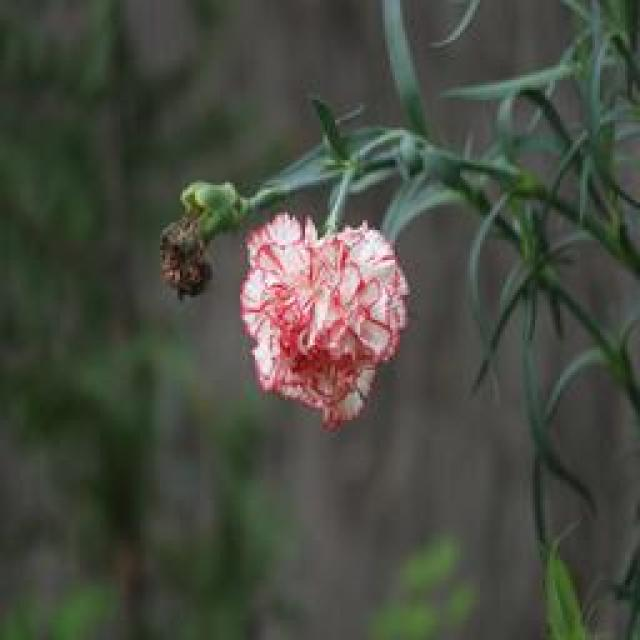carnation: (238, 202, 417, 408)
